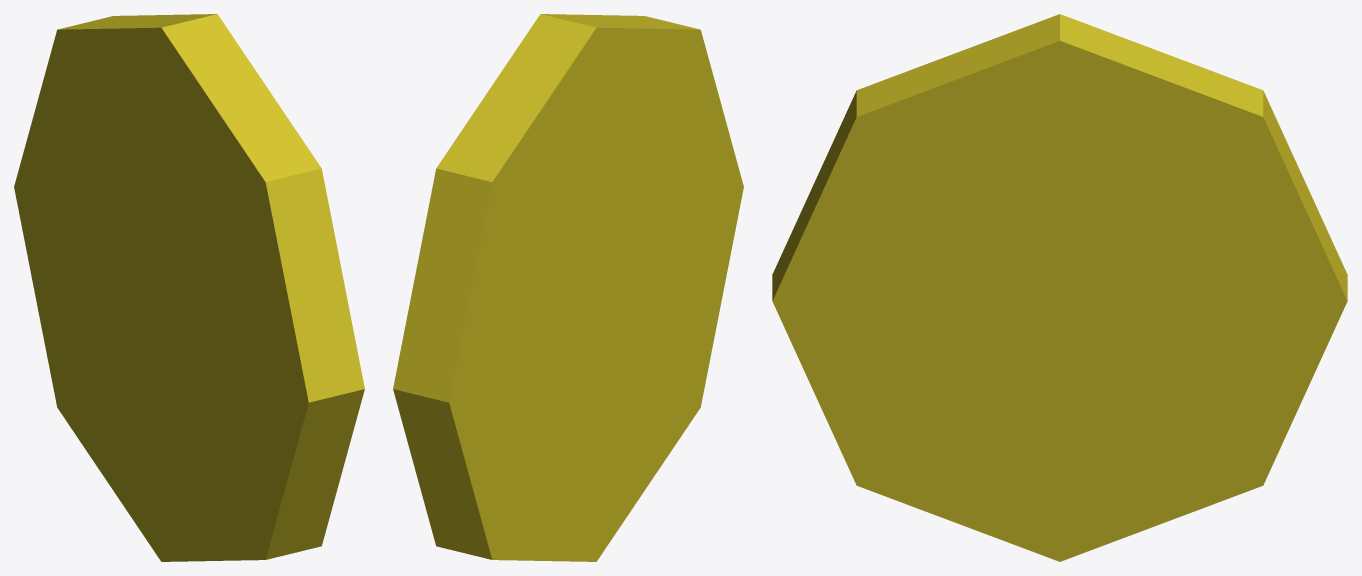
The model's file is Asset_coin_01.fbx.
3 views of the same model, side by side, from view 1: azimuth 30°, elevation 25°; view 2: azimuth 150°, elevation 25°; view 3: azimuth 270°, elevation 25° (orthographic). The views are drawn at different scales.
Parts seen in each view (by area): view 1: Asset_coin; view 2: Asset_coin; view 3: Asset_coin.
Part boxes in pixels (x1,y1,x2,y2): Asset_coin: (14,14,364,561); Asset_coin: (393,14,743,561); Asset_coin: (772,14,1347,561).
Size of the model in its own units: 15.29 by 139 by 139.
